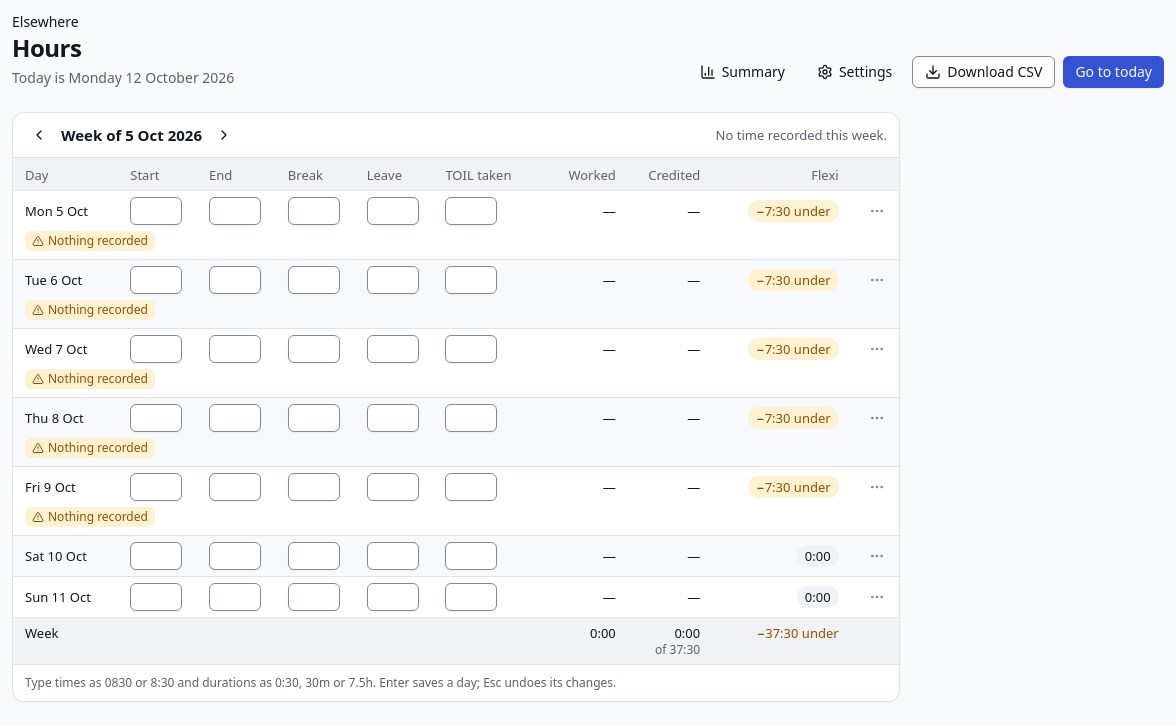
Scenario: WeekView › validates a field when it is left, and every field on save
Expected: the heading "Hours" is shown, [12,31,81,64]
Type "25" into the field named "Start, Tue 6 Oct".
click(156, 280); type("25")  # box [130,266,182,294]
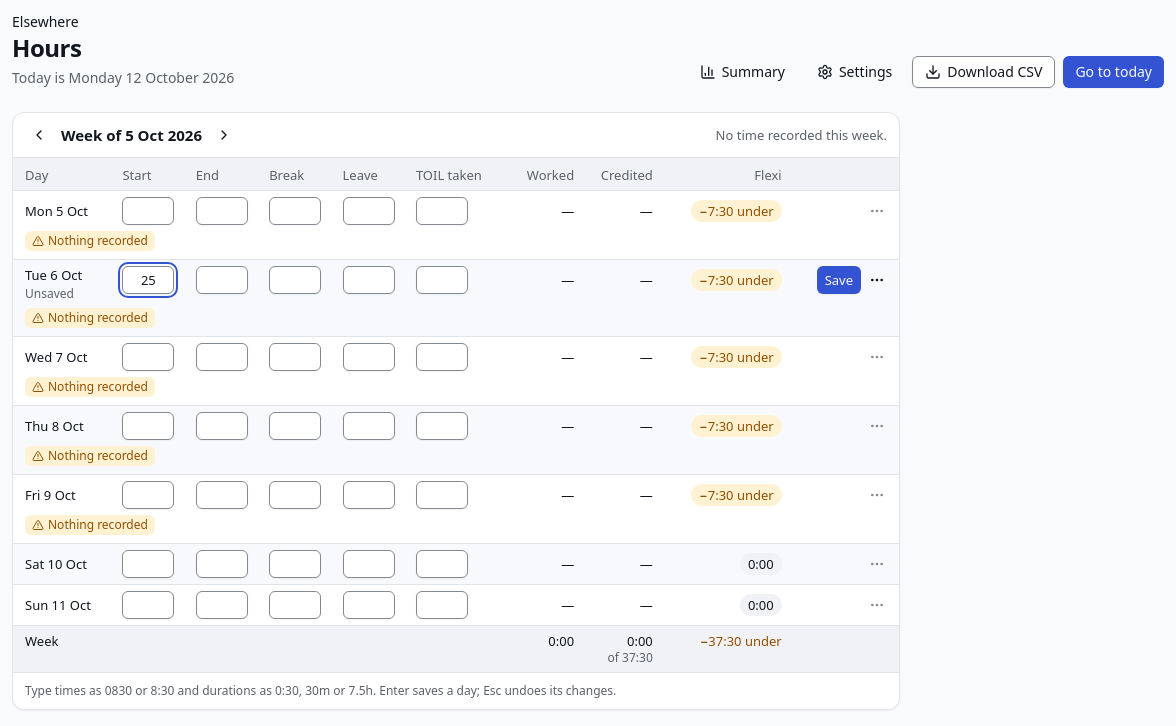
Expected: the text "Enter a 24-hour time, such as 08:30." is not shown
Press Tab
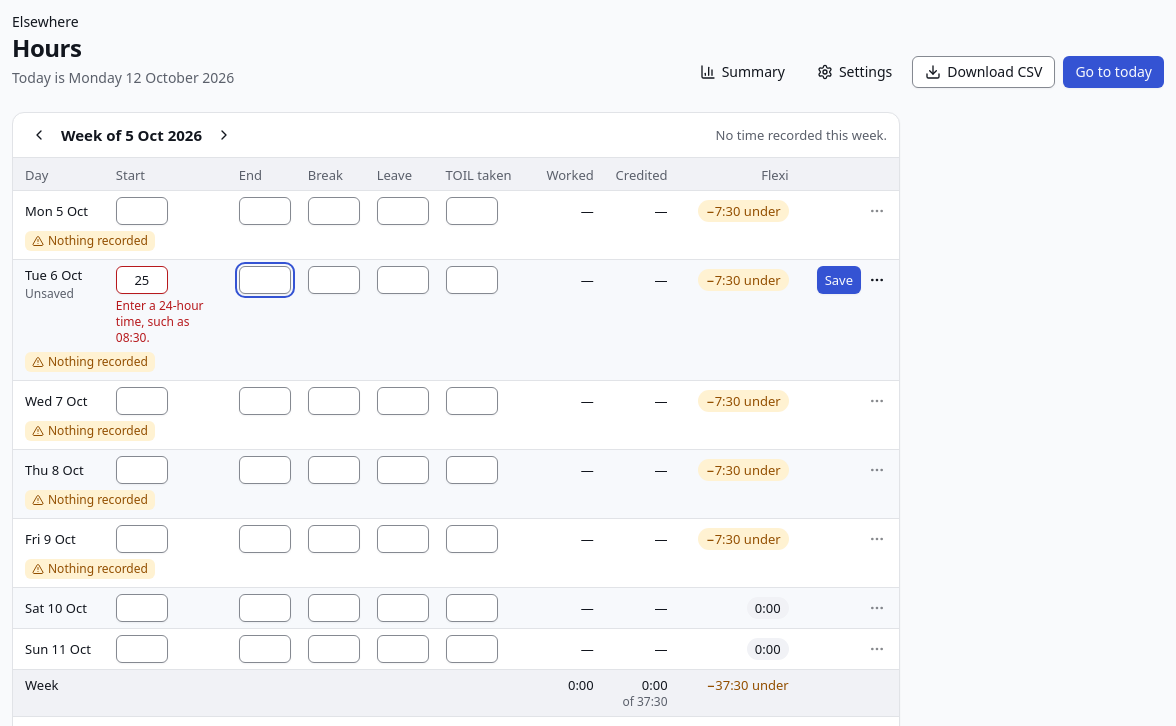
Now the field named "Start, Tue 6 Oct" is marked as invalid
Clear the field named "Start, Tue 6 Oct" at (142,280), box [116,266,168,294]
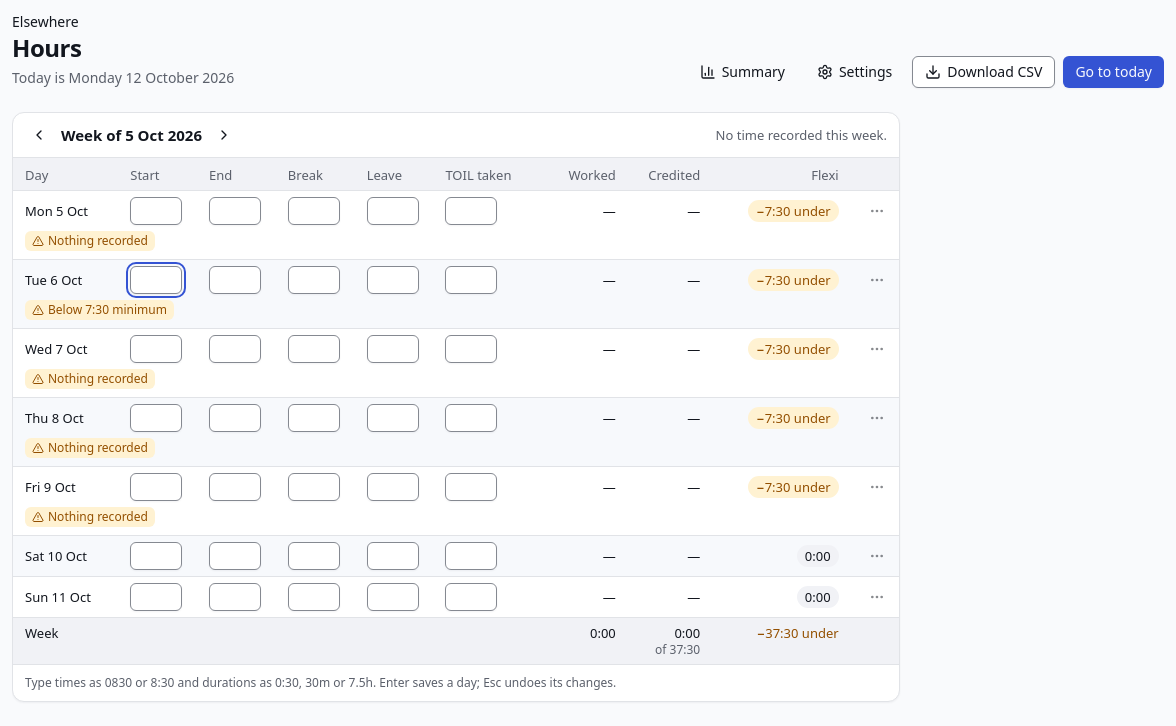
Type "0800" into the field named "Start, Tue 6 Oct".
click(156, 280); type("0800")  # box [130,266,182,294]
Then press Enter
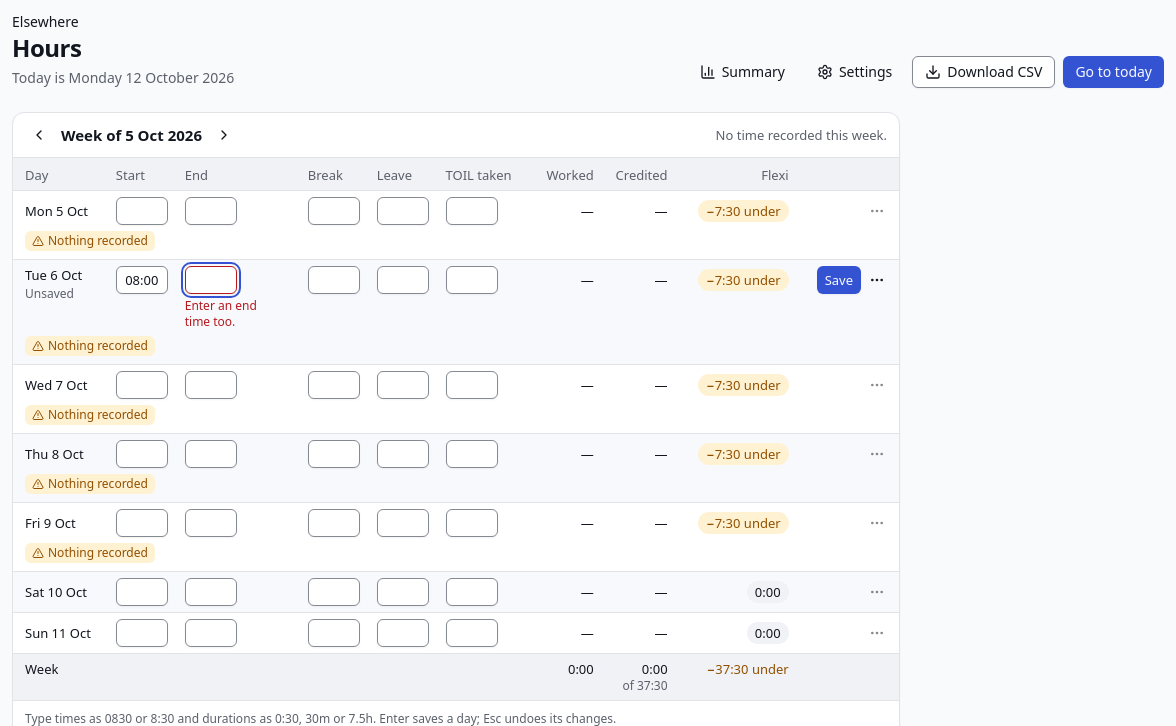
Now the text "Enter an end time too." is shown, box [185,296,257,330]
